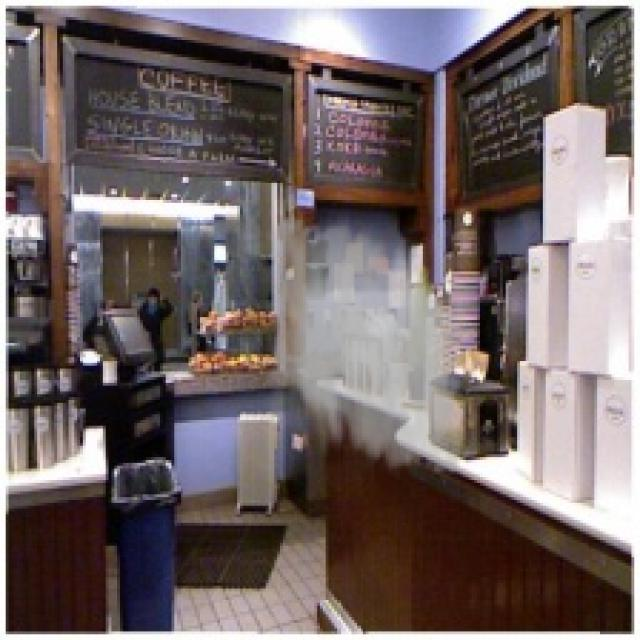smoke: (251, 205, 480, 486)
